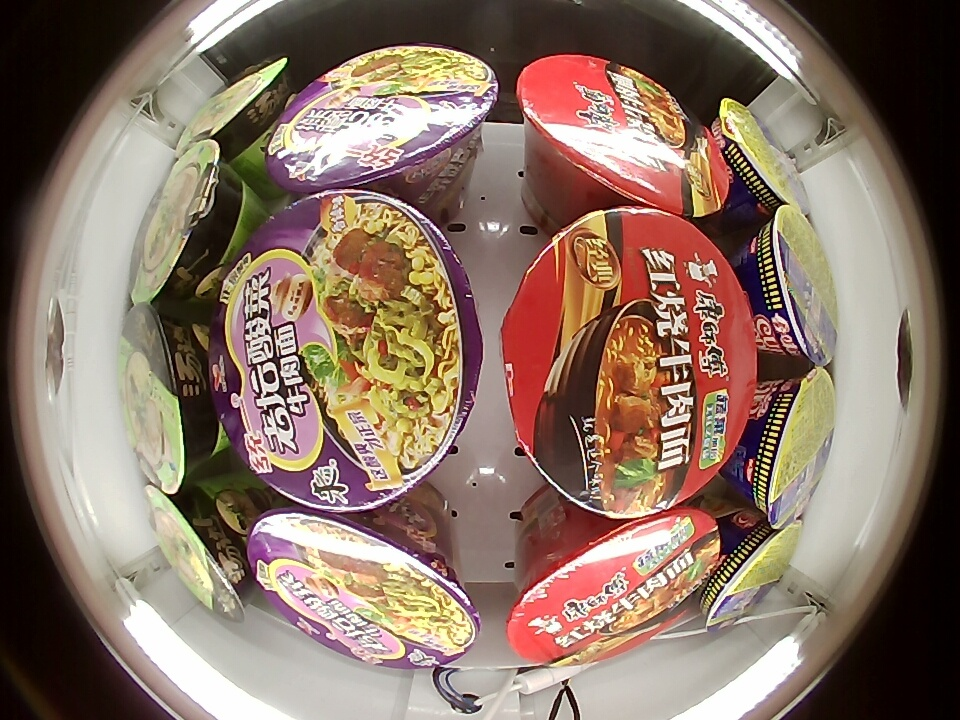heweidao: (730, 367, 835, 529), (748, 207, 838, 367), (710, 98, 811, 216), (702, 515, 803, 632)
hongshaoniurou: (500, 208, 758, 520), (517, 53, 730, 217), (508, 506, 720, 667)
laotansuancai: (209, 190, 484, 514), (247, 504, 479, 668), (264, 44, 499, 198)
tangdaren: (131, 138, 247, 307), (118, 301, 220, 490), (145, 483, 253, 623), (174, 56, 290, 163)
